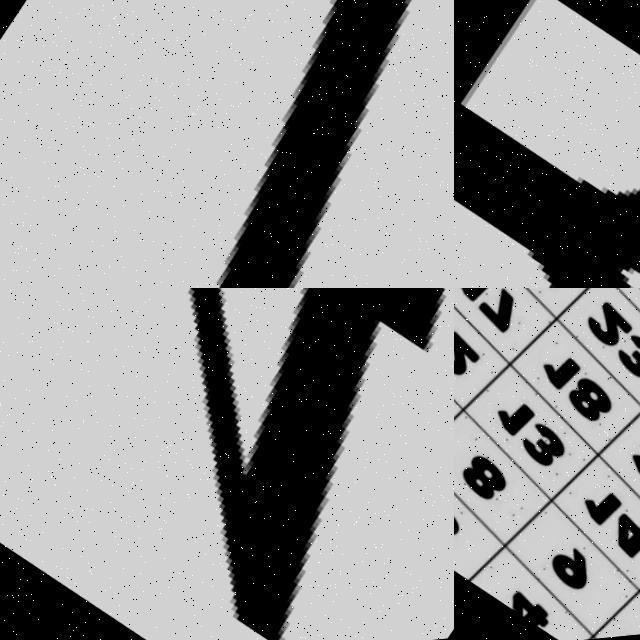1: (517, 340, 588, 411), (470, 386, 540, 456), (558, 478, 621, 541), (606, 434, 640, 500), (454, 288, 499, 317), (597, 615, 640, 640)
2: (567, 298, 637, 367), (454, 326, 487, 397), (506, 288, 583, 311), (609, 288, 640, 323)
3: (503, 419, 574, 490), (595, 328, 640, 403)
4: (485, 577, 557, 640), (583, 504, 640, 583)
7: (455, 288, 535, 354)
8: (544, 370, 620, 446), (454, 439, 517, 526)
9: (518, 532, 601, 615)
I: (207, 0, 416, 288)
